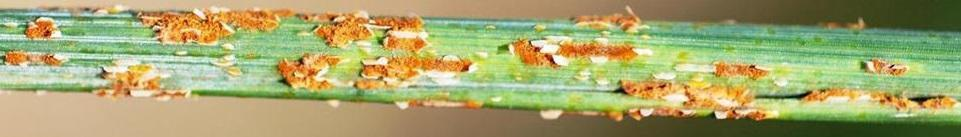Wheat: (2, 7, 510, 107), (495, 21, 953, 117)
